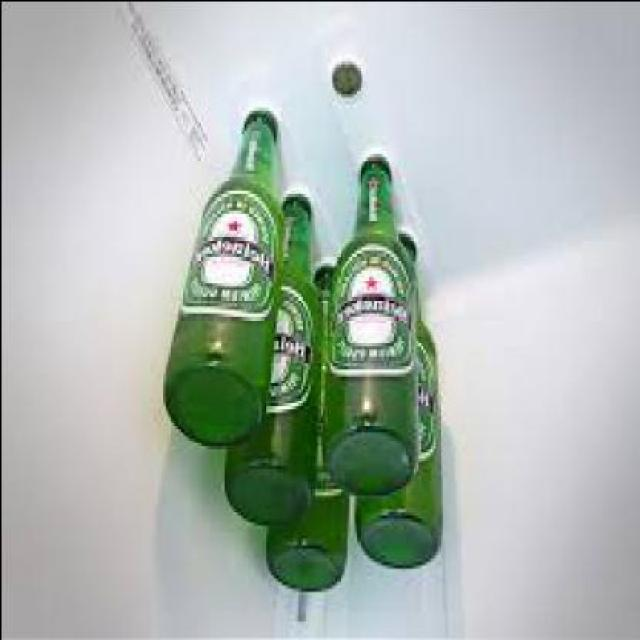GLASS: (164, 112, 290, 442), (225, 192, 327, 517), (327, 152, 419, 488), (267, 262, 348, 587), (356, 282, 442, 564)
